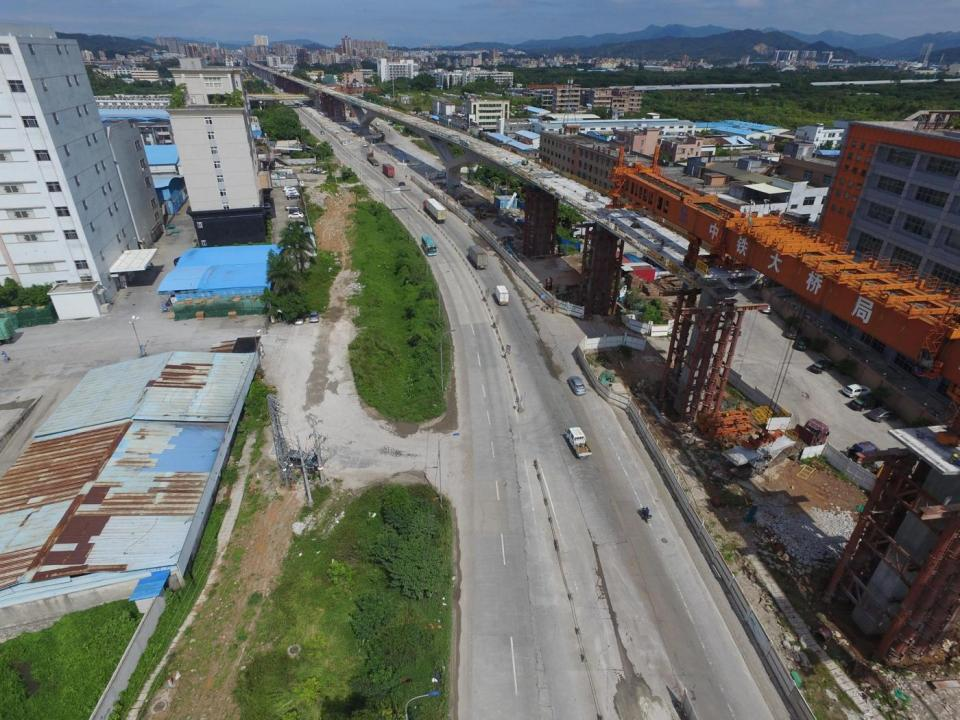bus: (422, 234, 436, 256)
car: (848, 396, 882, 411), (868, 408, 899, 422), (841, 384, 871, 398), (566, 375, 586, 395), (808, 361, 834, 373), (795, 336, 810, 352), (786, 326, 799, 339), (293, 313, 306, 324), (761, 302, 772, 313), (309, 310, 318, 322), (287, 212, 303, 218), (284, 205, 300, 211), (288, 222, 304, 228), (289, 208, 304, 214), (286, 194, 300, 200), (271, 164, 284, 169), (284, 190, 297, 194), (283, 186, 296, 190), (264, 202, 271, 208), (285, 193, 299, 196), (398, 182, 406, 187), (362, 142, 368, 146), (320, 131, 324, 134)
truck: (722, 417, 830, 479), (565, 427, 592, 458), (572, 221, 614, 239), (421, 199, 446, 224), (467, 245, 488, 269), (494, 285, 509, 306), (366, 151, 379, 166), (383, 163, 395, 178), (475, 206, 486, 220), (375, 122, 379, 126)
